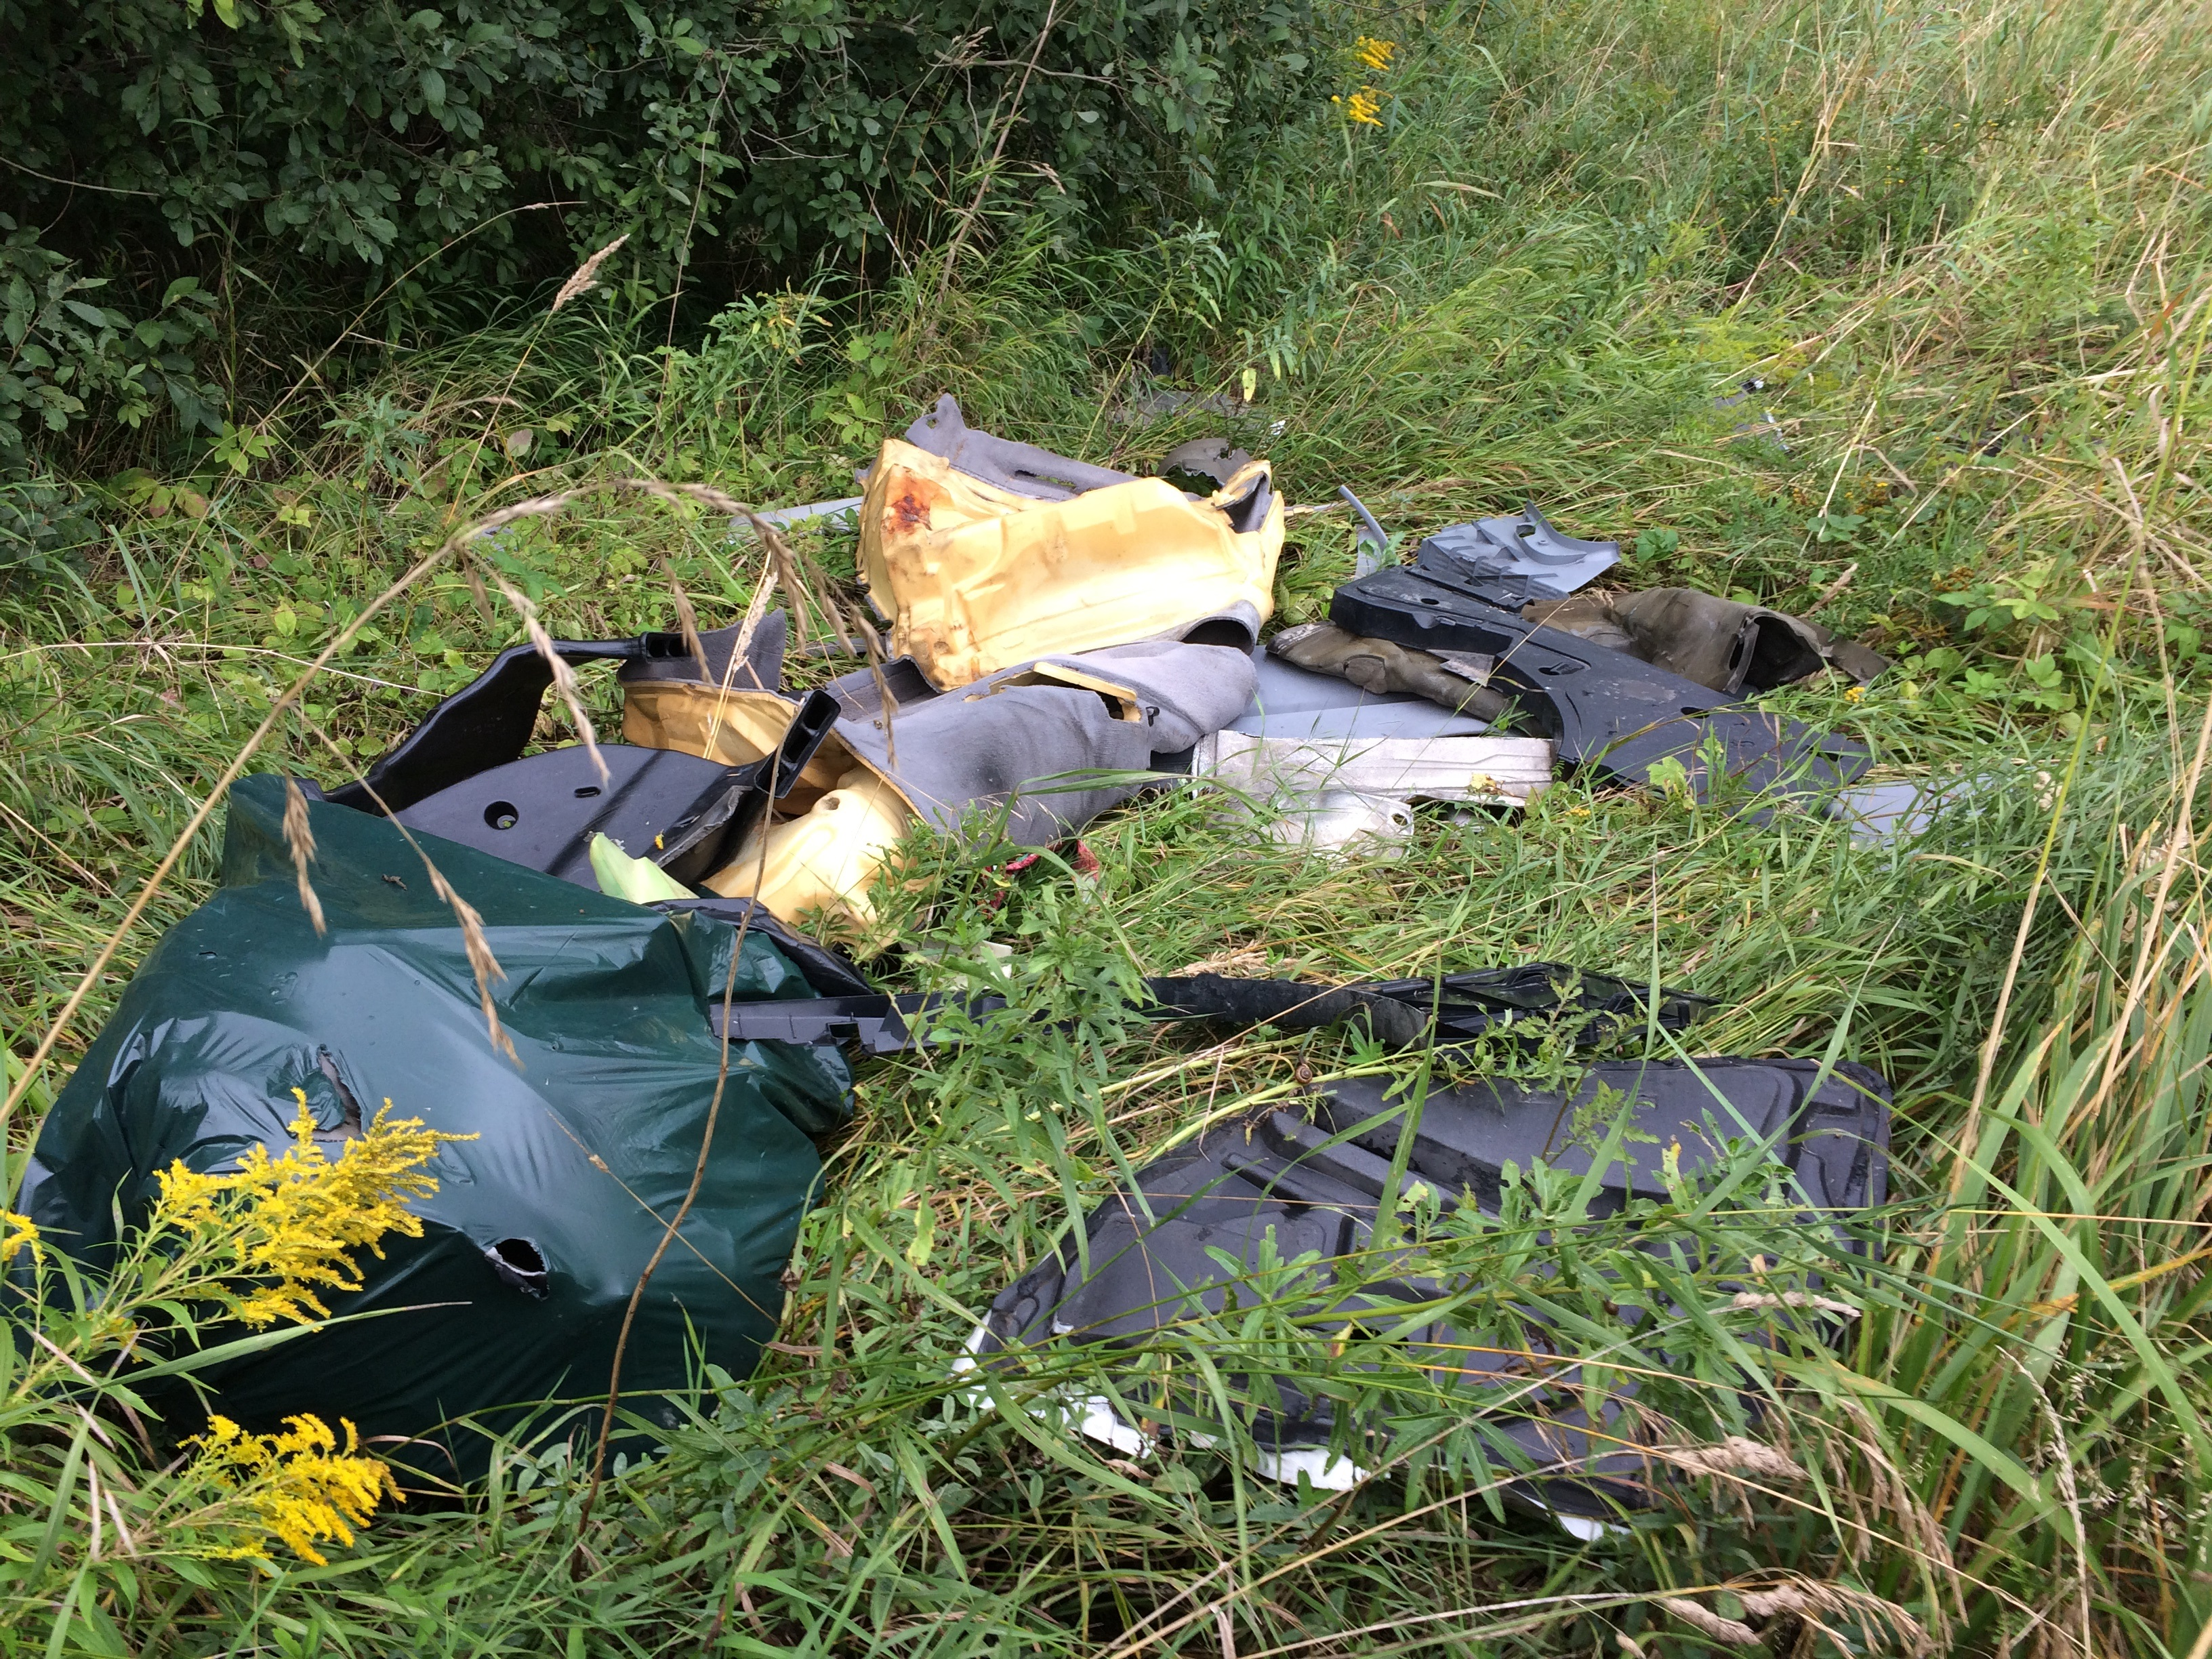trash: (91, 383, 2029, 1497)
